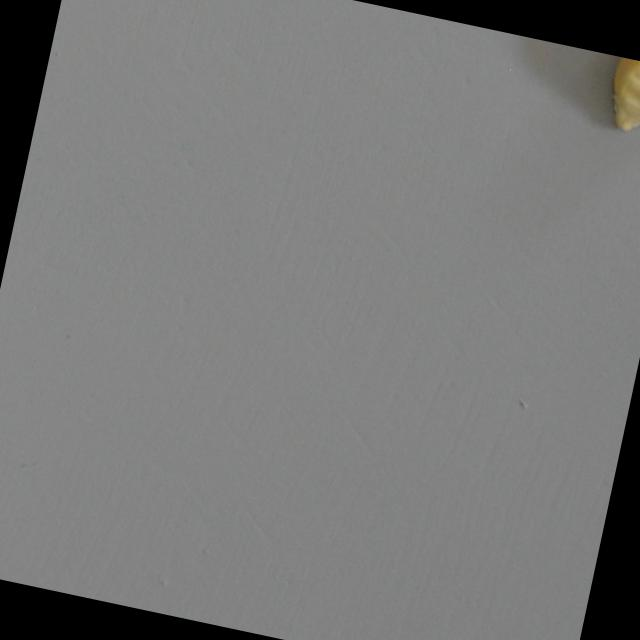entero: (596, 55, 640, 139)
